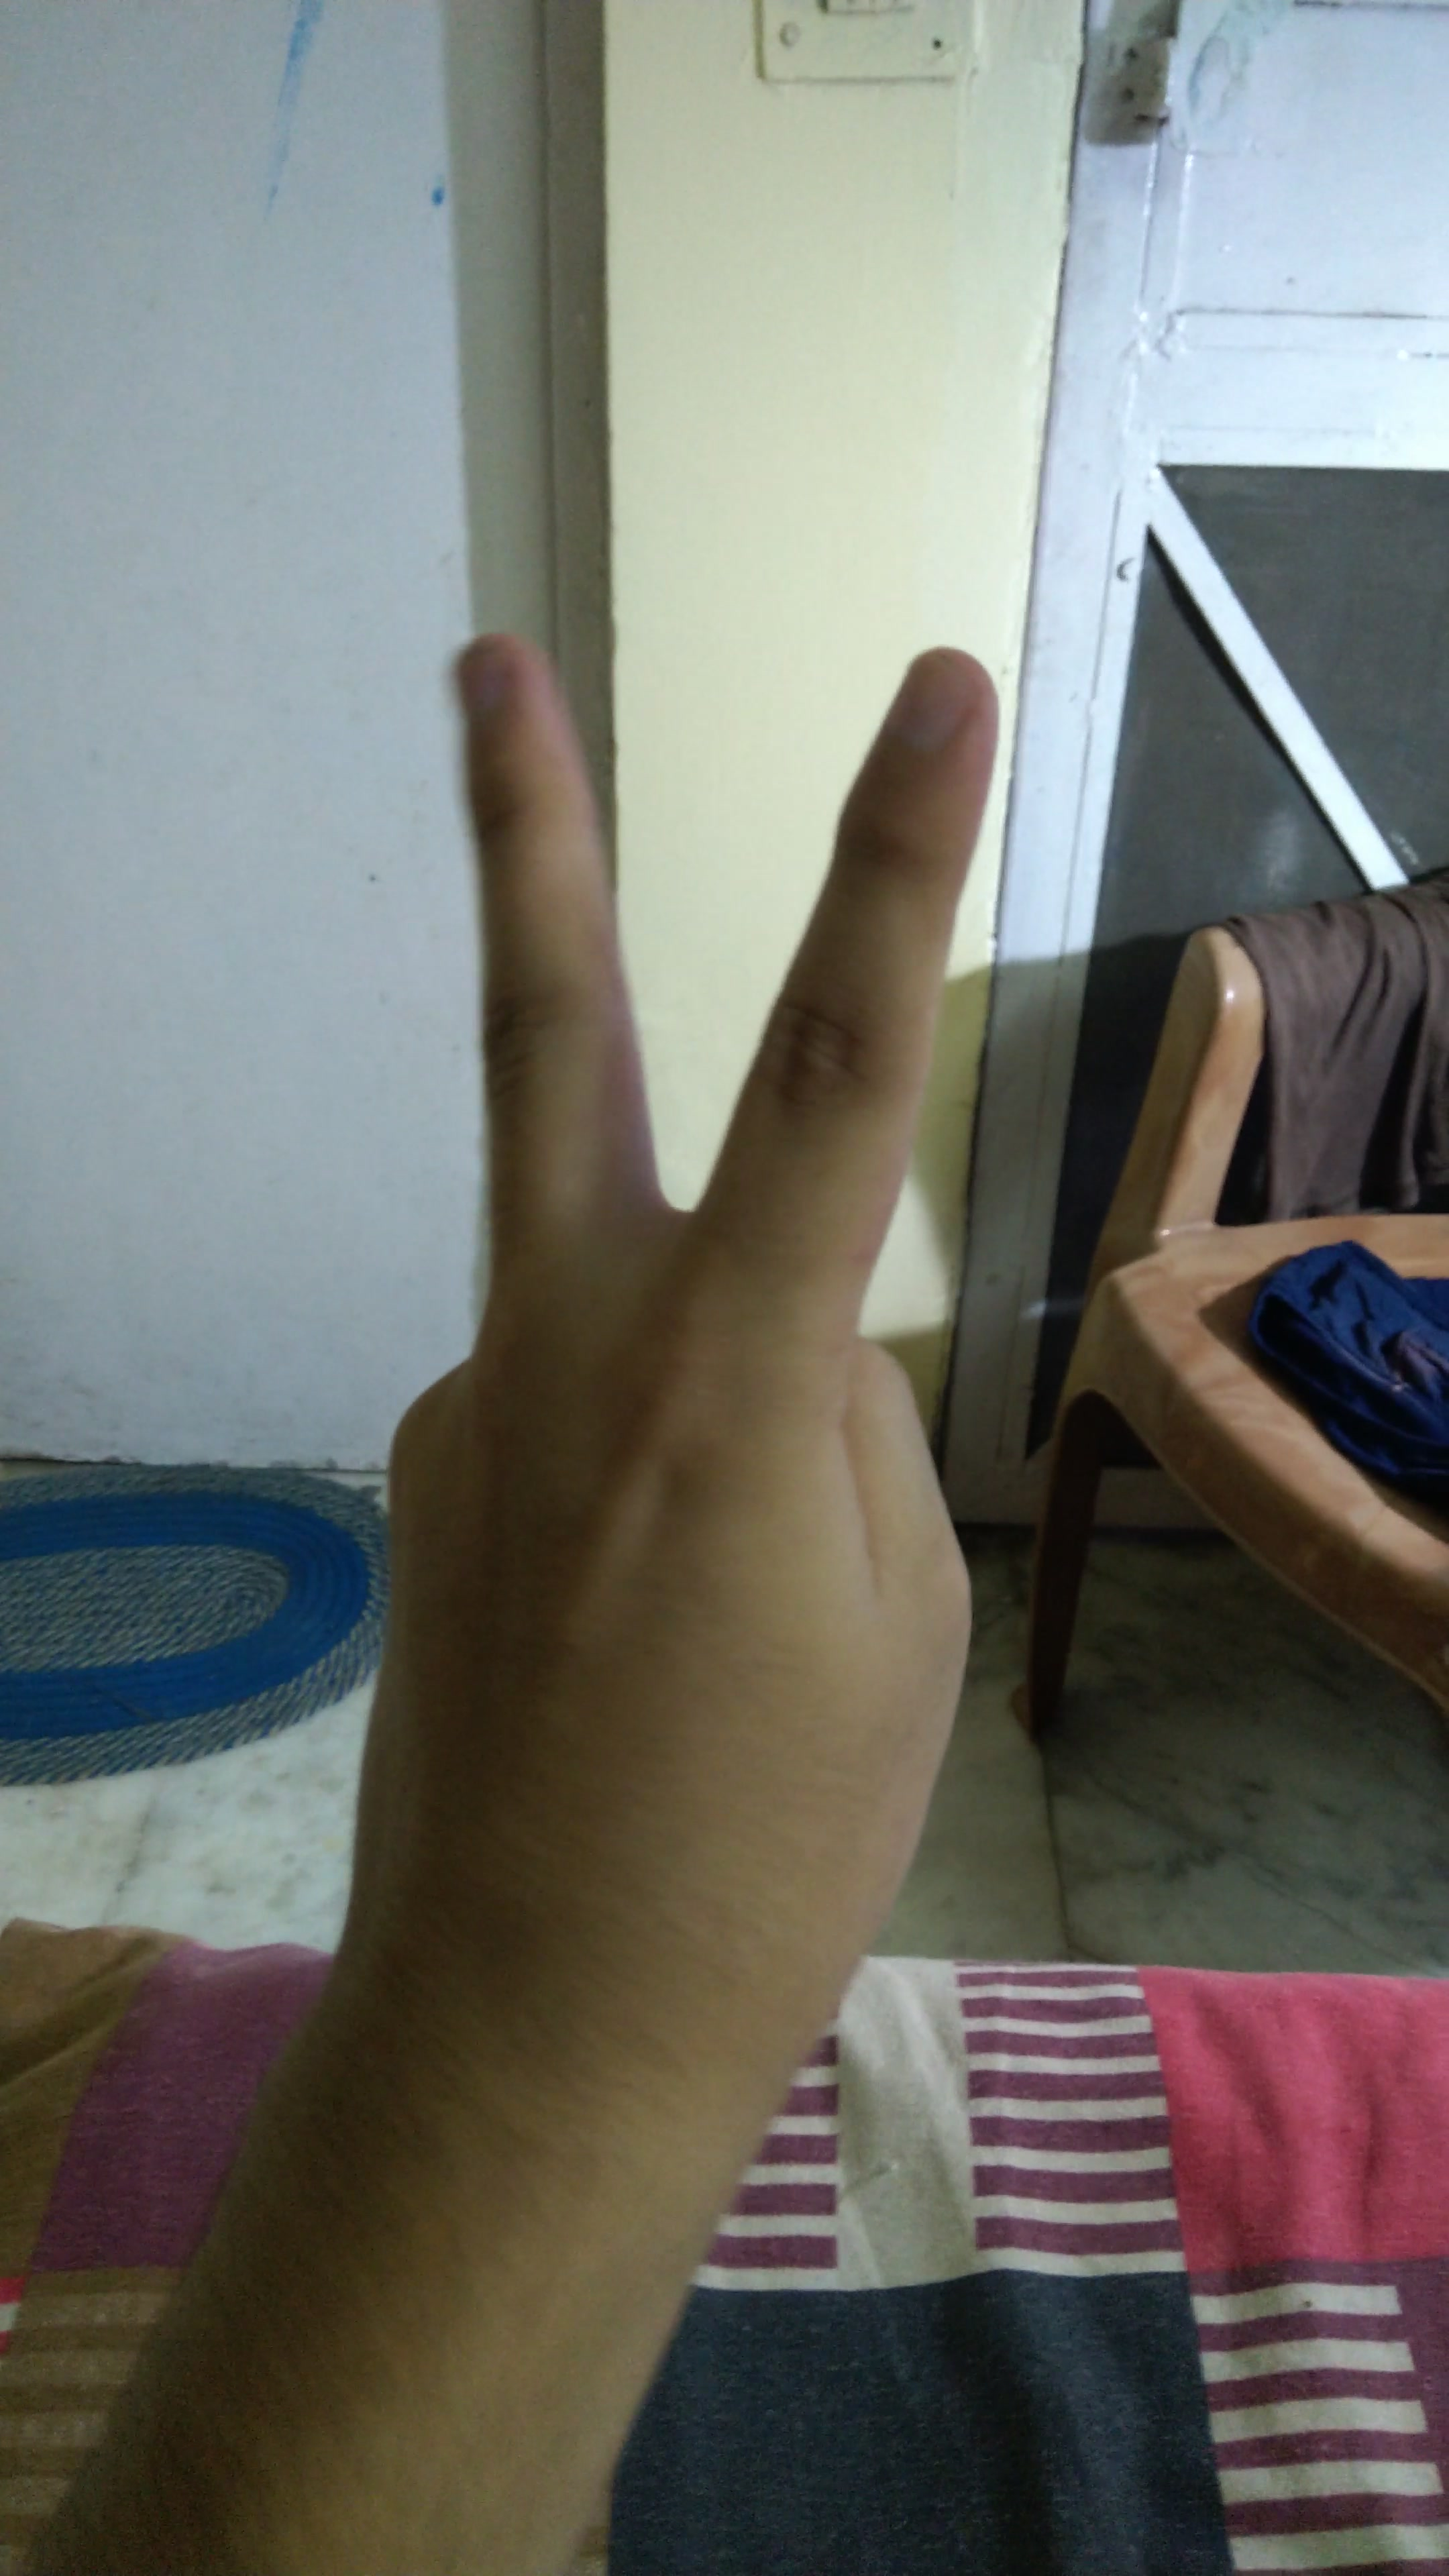hand: (211, 580, 1145, 2026)
